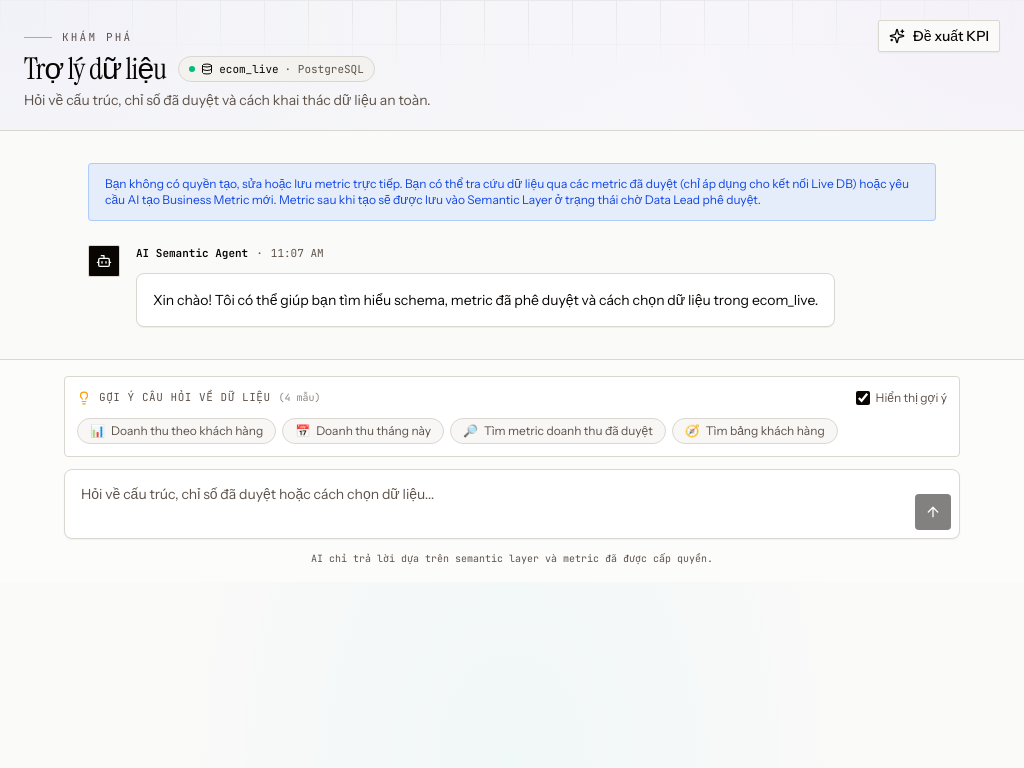
it: AIStudioView › renders semantic query result table when response has intent semantic_query
Type "Tổng doanh thu theo khách hàng" into the text box with placeholder "Hỏi về cấu trúc, chỉ số đã duyệt hoặc cách chọn dữ liệu..." at x=490, y=504, box [73,478,907,530]
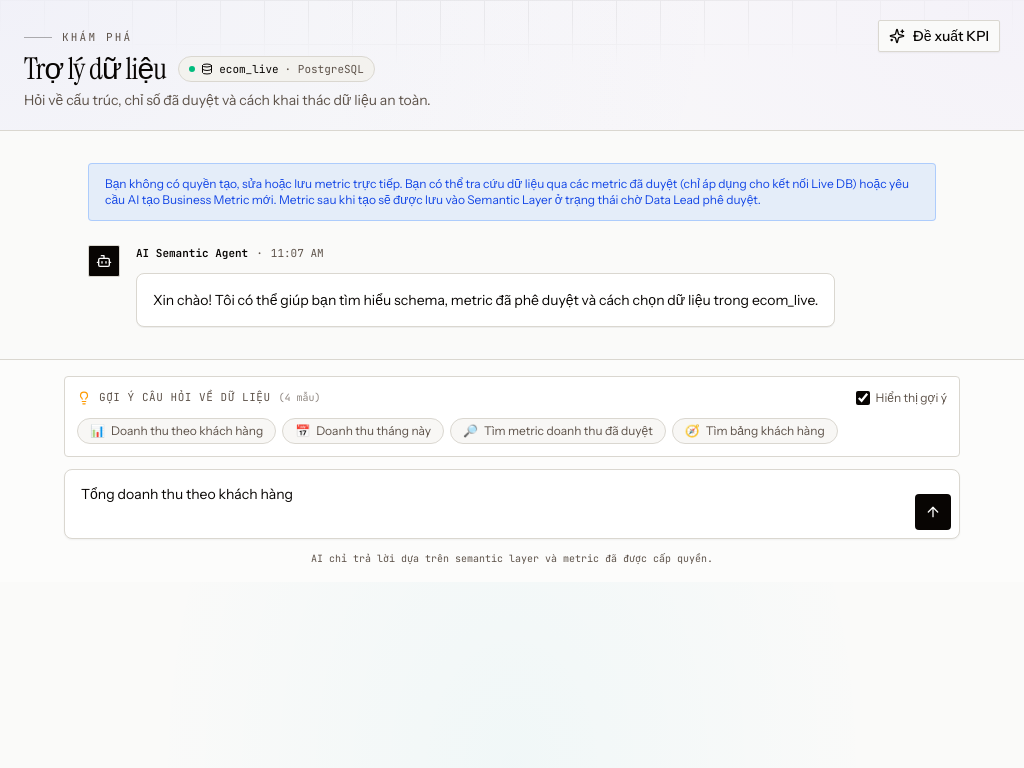
Click the button named "Gửi tin nhắn" at x=933, y=512, box [915,494,951,530]
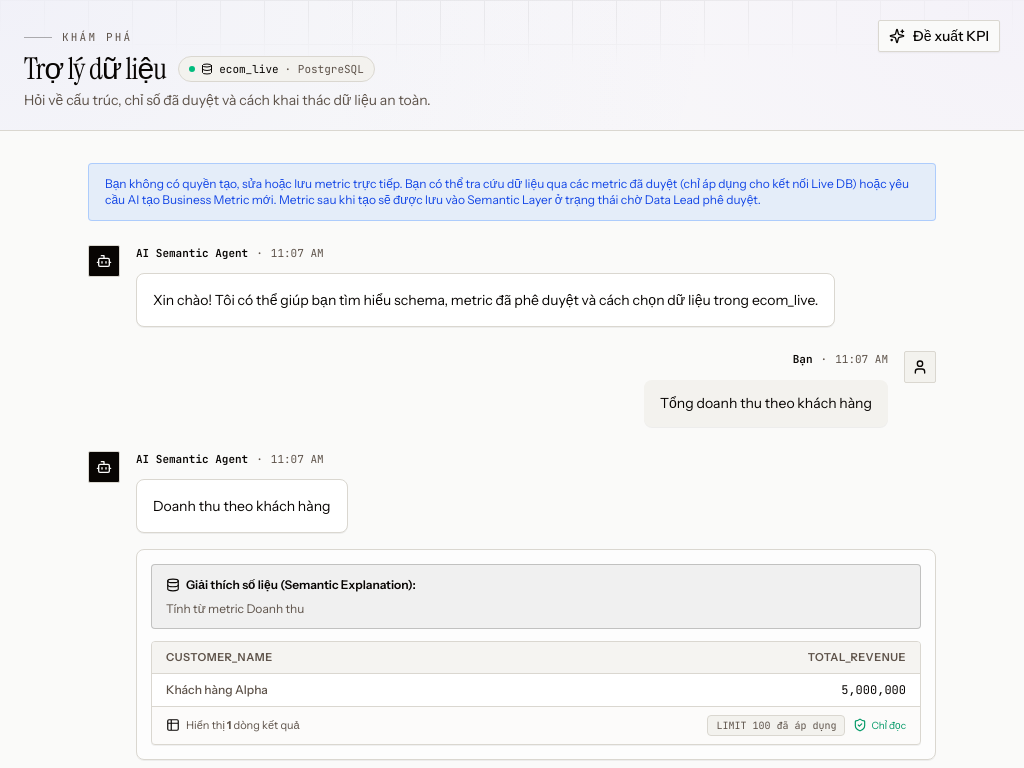
Expected: the text "Khách hàng Alpha" is shown, [152,673,548,706]
Expected: the text "5,000,000" is shown, [548,673,920,706]
